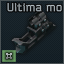MP-155 Ultima underbarrel mount: (0, 0, 64, 64)
